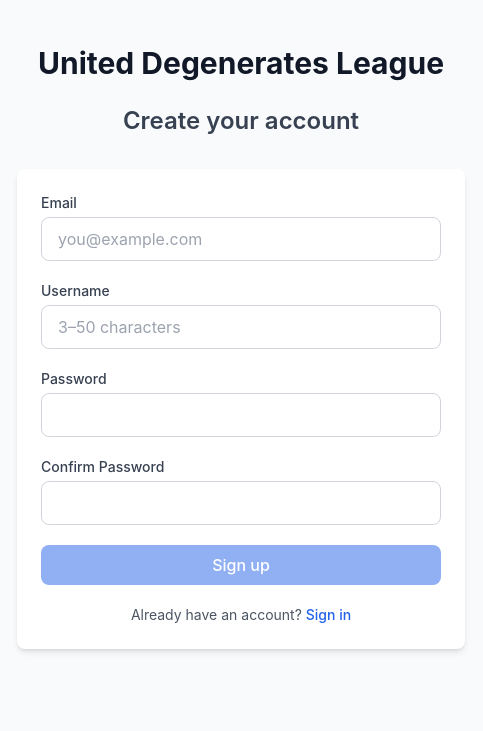
Test: Register — client-side validation › shows error when passwords do not match
This screenshot has width=483, height=731.
Type "bob@example.com" into the field labelled "Email" at (241, 239), box left=41, top=217, right=441, bottom=261
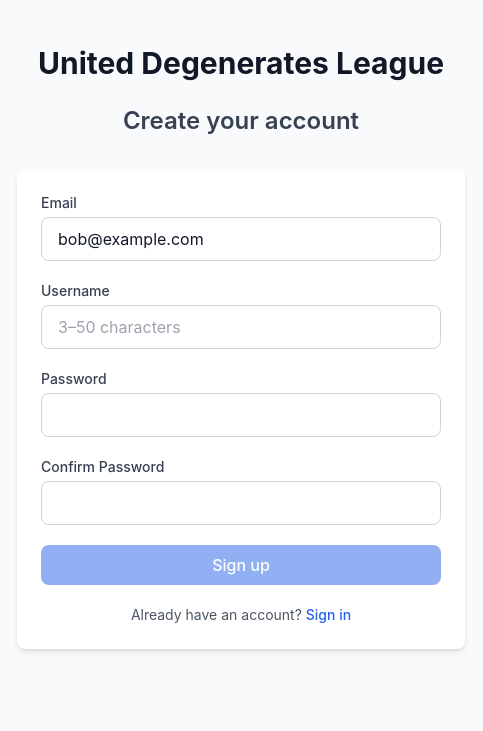
Type "bob" into the field labelled "Username" at (241, 327), box left=41, top=305, right=441, bottom=349
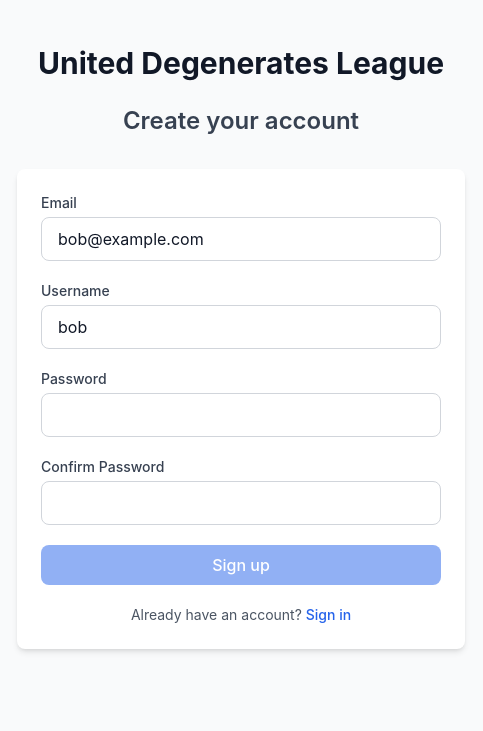
Type "Password123!" into the password field labelled "Password" at (241, 415), box left=41, top=393, right=441, bottom=437
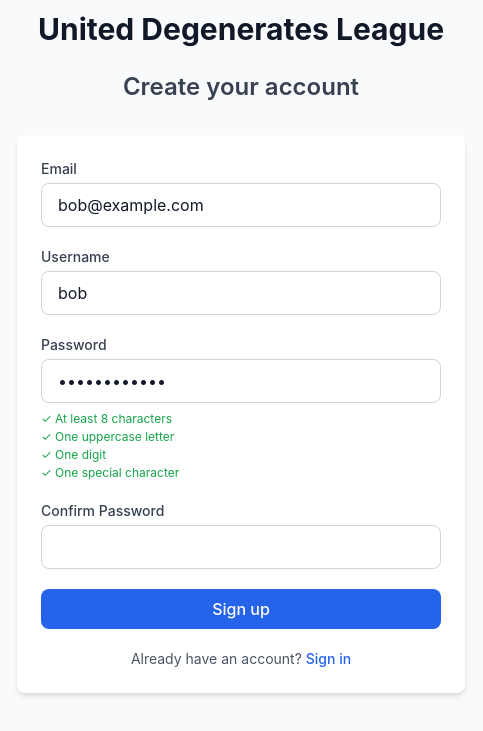
Type "Different123!" into the password field labelled "Confirm Password" at (241, 547), box left=41, top=525, right=441, bottom=569
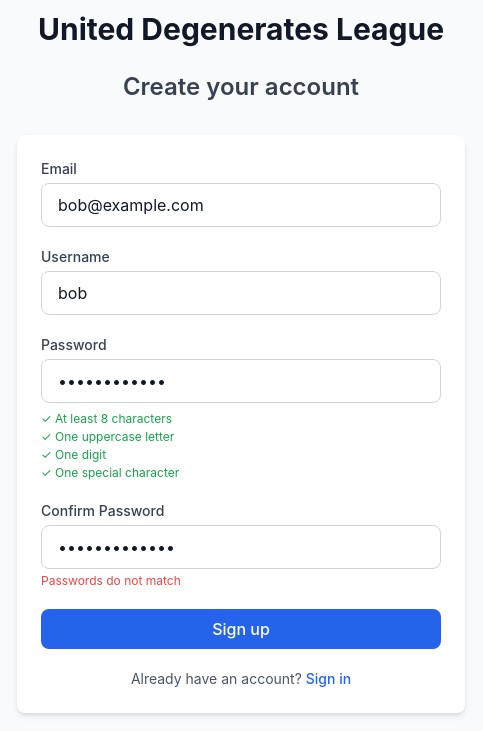
Click the button "Sign up" at (241, 629), box left=41, top=609, right=441, bottom=649
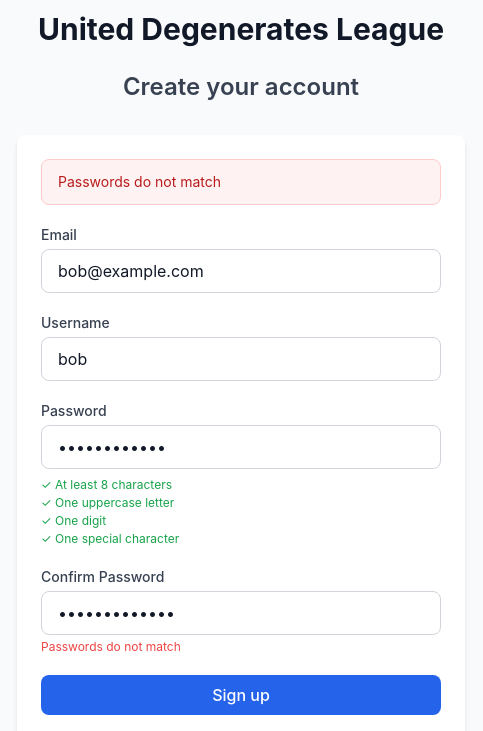
Result: the 1st text "Passwords do not match" is shown at left=41, top=159, right=441, bottom=205
